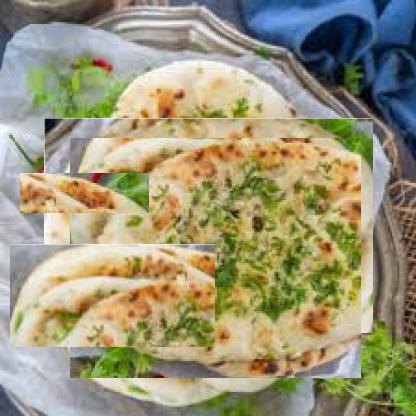naan: (72, 89, 345, 362), (82, 125, 348, 391), (35, 219, 190, 373), (41, 150, 127, 236)
